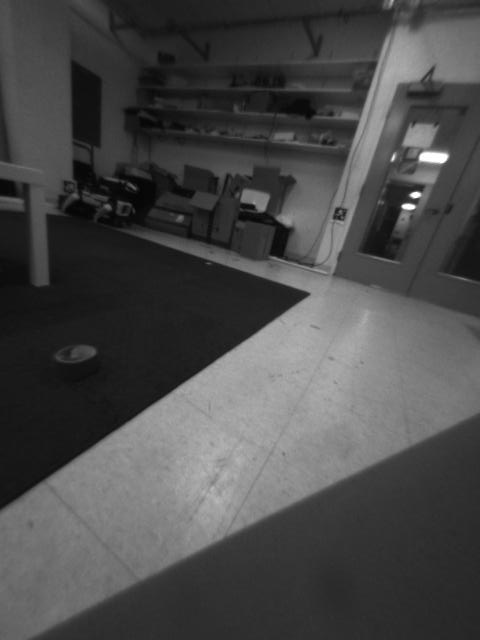dogtoy: (39, 330, 107, 379)
